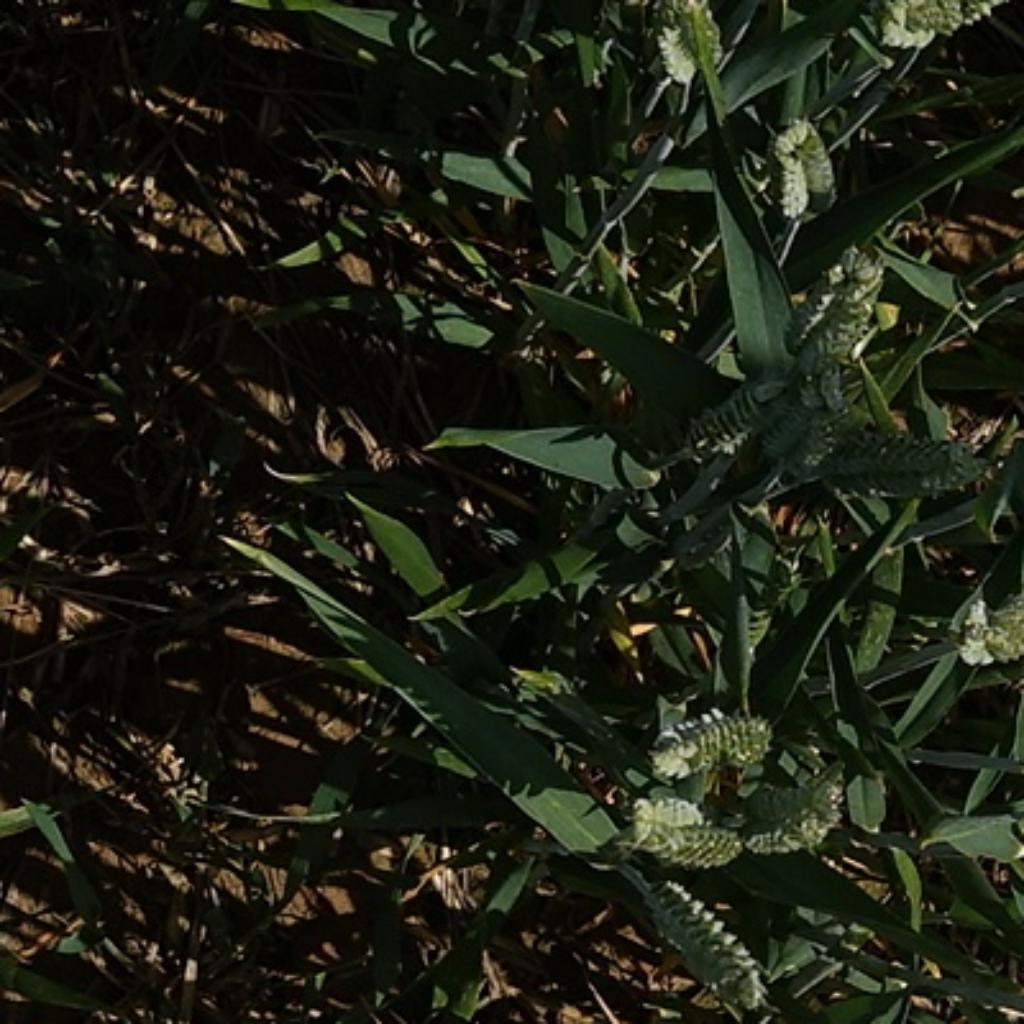0-0: (629, 865, 773, 1006), (786, 250, 900, 373), (815, 429, 1004, 500), (640, 696, 783, 780), (688, 365, 798, 470), (734, 760, 847, 849), (619, 785, 734, 867), (868, 0, 1006, 52), (650, 0, 732, 85), (947, 583, 1024, 670), (771, 121, 817, 221), (799, 120, 838, 196), (740, 590, 776, 657)
